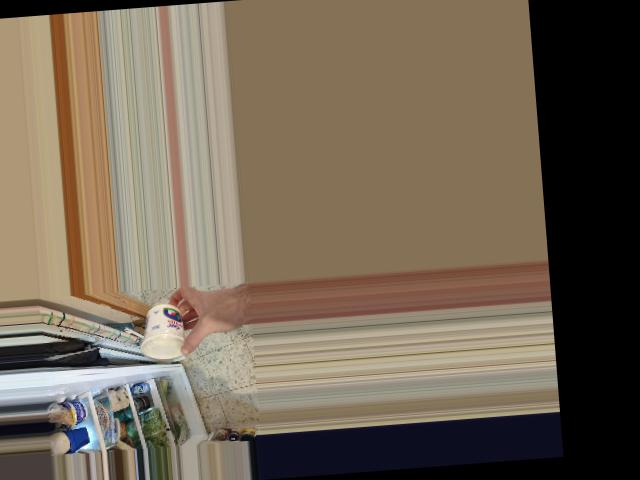cotage: (139, 305, 188, 363)
